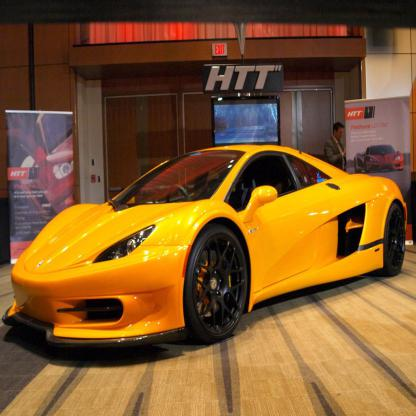Car: (3, 141, 406, 340), (22, 112, 78, 223), (353, 144, 402, 169)
